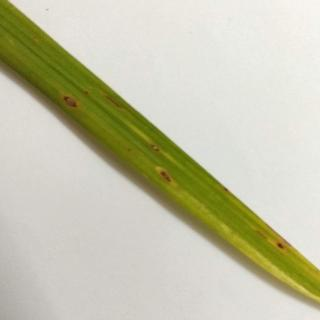Blast: (248, 216, 304, 276), (144, 148, 193, 204), (50, 81, 94, 127), (100, 88, 134, 118)
